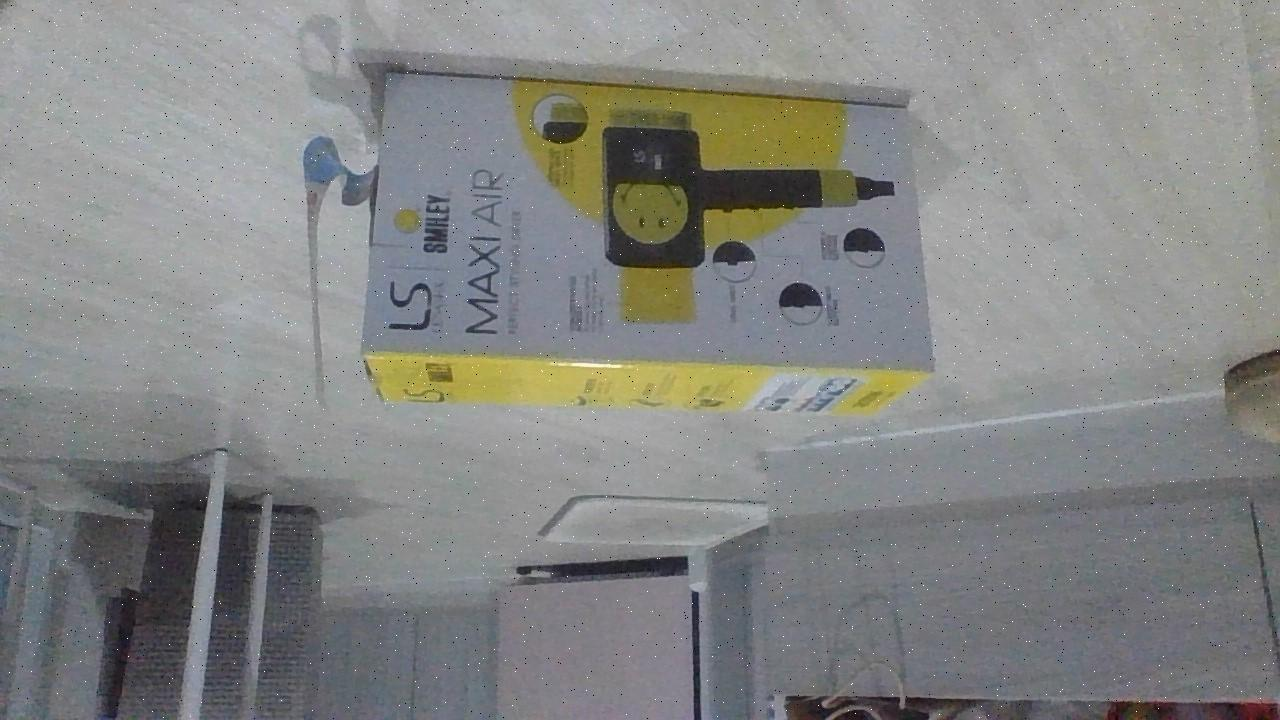Dryer: (358, 69, 940, 424)
